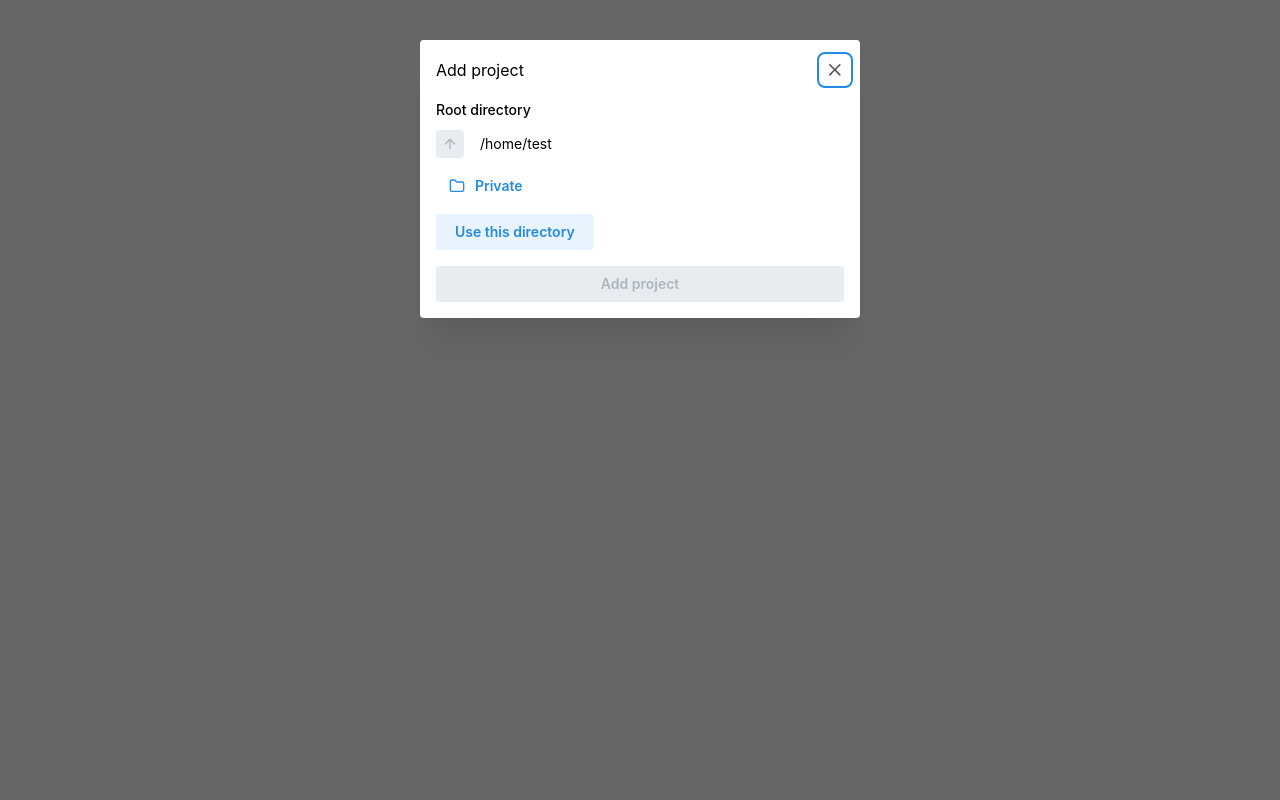
Test: can leave an unreadable child without retrying it
What coordinates should you click on to do the following:
click the button "Private"
I would click on:
 (499, 186)
Its box is 436,168 -> 844,204.
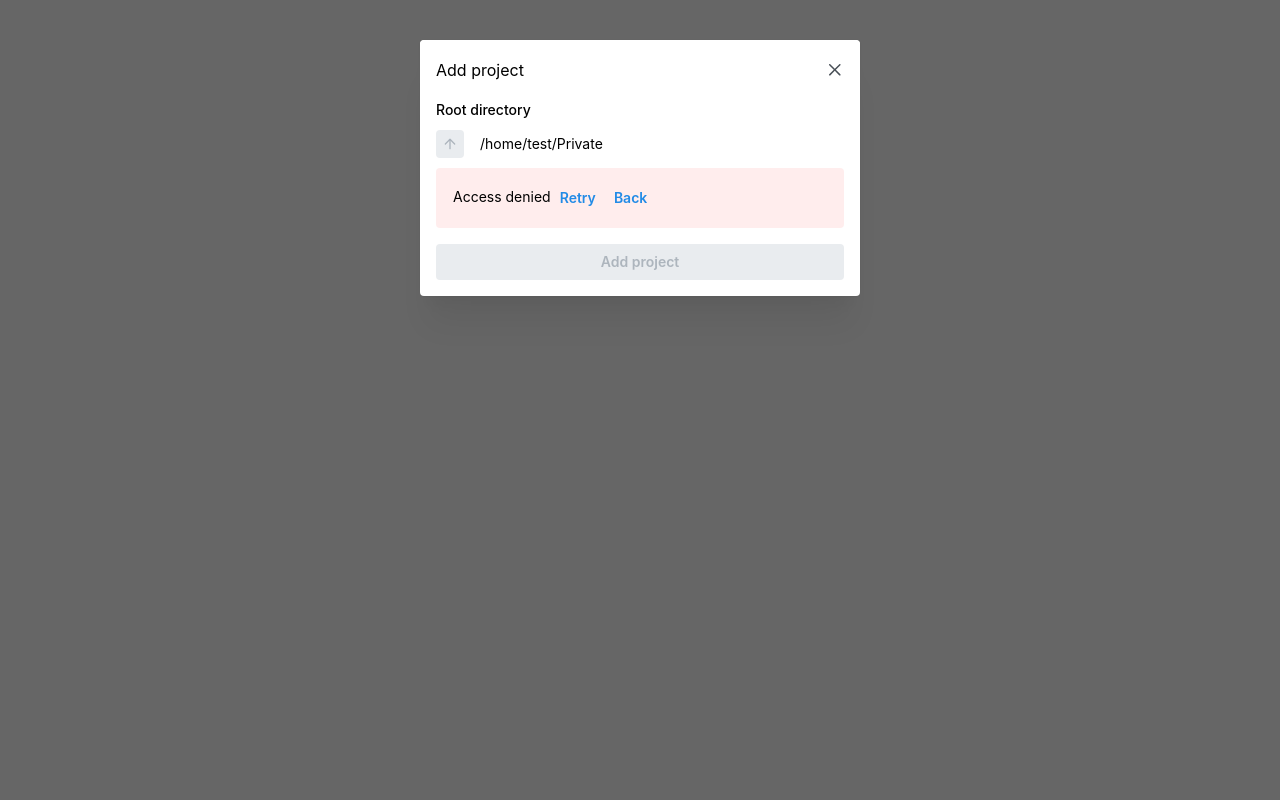
Now the text "Access denied" is shown, box 453,188 -> 551,205
What coordinates should you click on to do the following:
click the button "Back"
I would click on:
 (631, 198)
Its box is 605,185 -> 656,211.
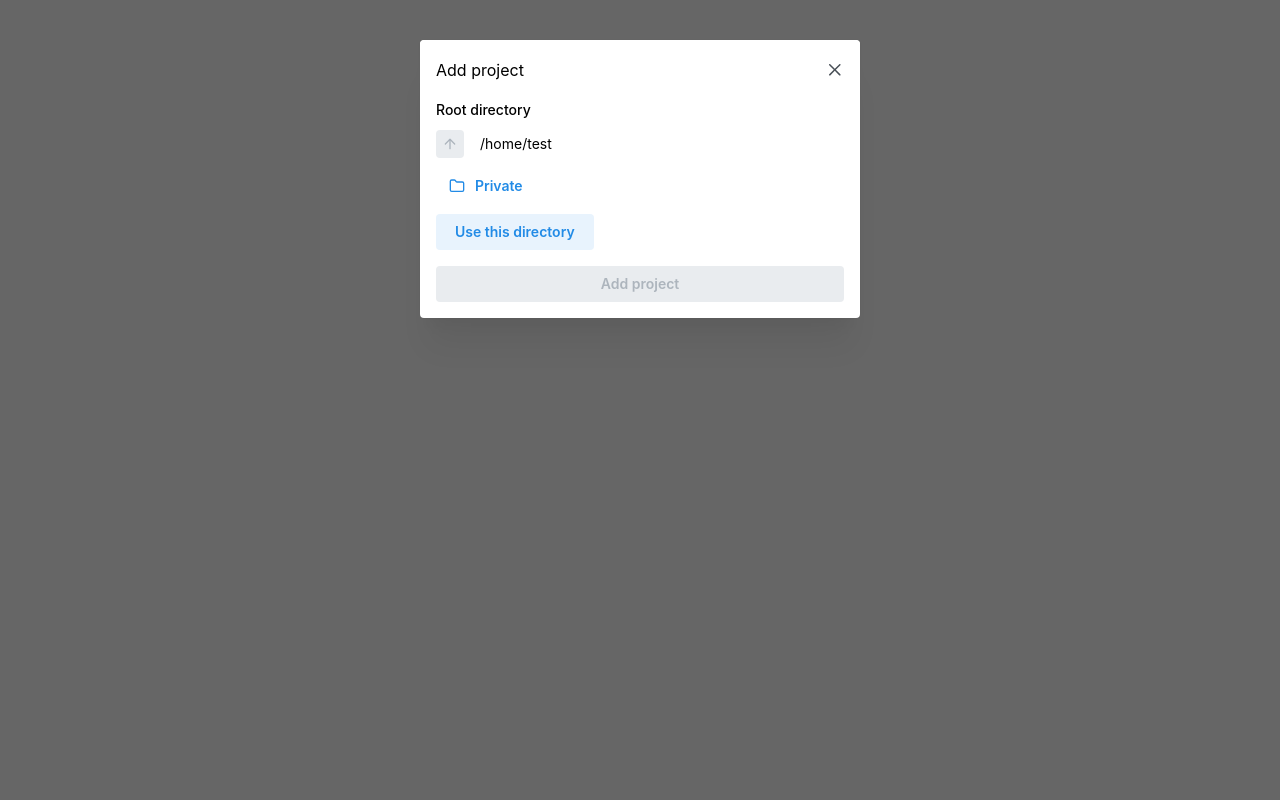
Expected: the button named "Go up" is disabled, 436,130 -> 464,158
Now the button "Private" is shown, box 436,168 -> 844,204
